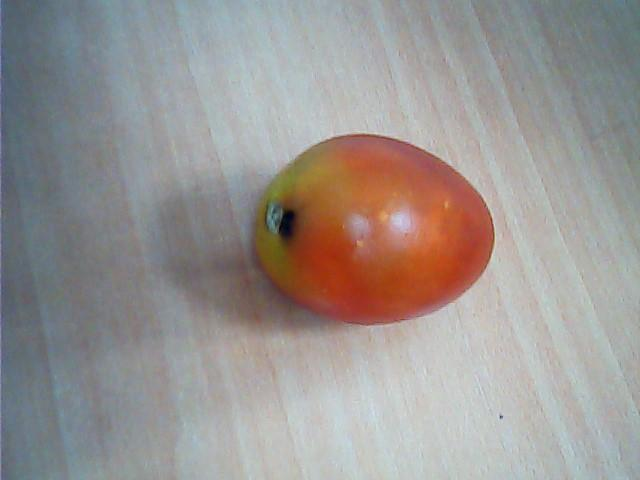defectuoso: (250, 132, 496, 330)
